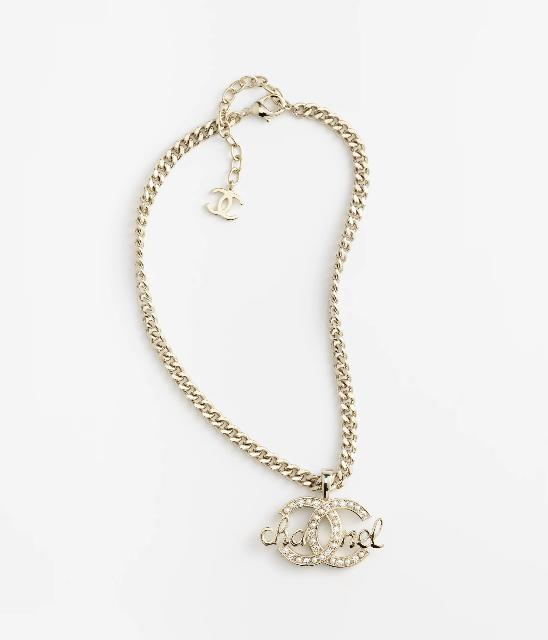Chanel: (236, 478, 422, 592), (200, 182, 248, 230)
